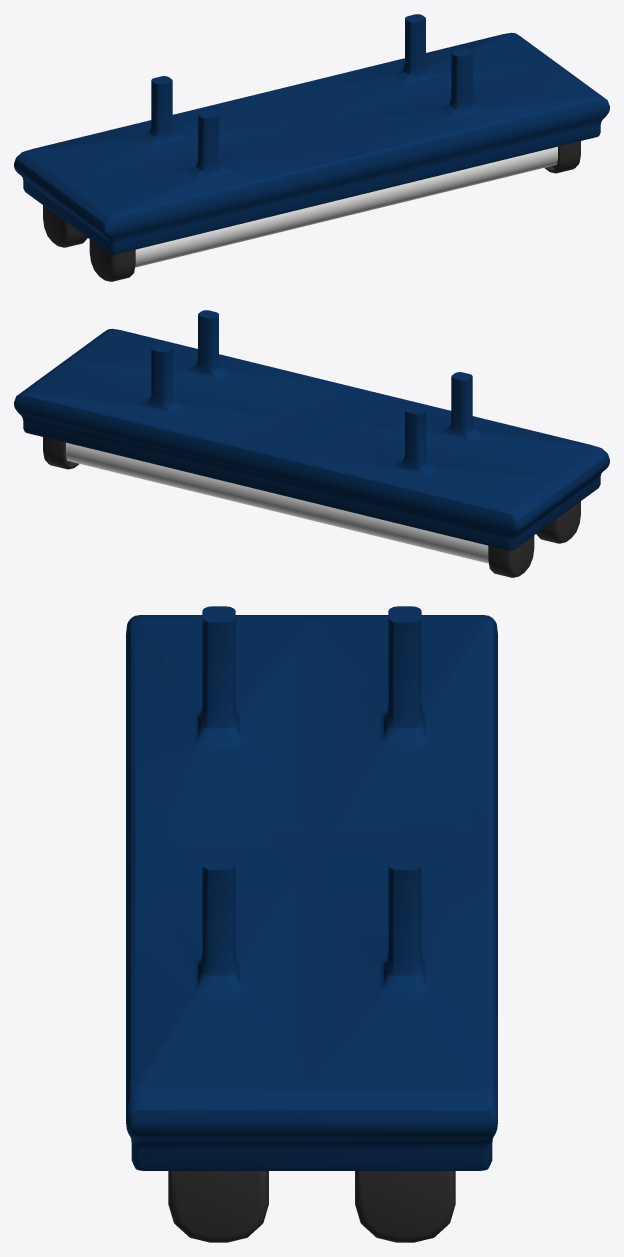
File: lamp.glb
3 renders of one model, top to bottom at view 1: azimuth 30°, elevation 25°; view 2: azimuth 150°, elevation 25°; view 3: azimuth 270°, elevation 25°, orthographic. The views are drawn at different scales.
Parts seen in each view (by area): view 1: Cube.033; view 2: Cube.033; view 3: Cube.033.
Boxes of the visible parts, bbox=[...] form: Cube.033: bbox=[14, 14, 609, 281]; Cube.033: bbox=[14, 310, 609, 577]; Cube.033: bbox=[126, 606, 497, 1242].
Size of the model in its own units: 1.27 by 0.3346 by 0.4046.
Materials: 2 (1 with a texture image).
